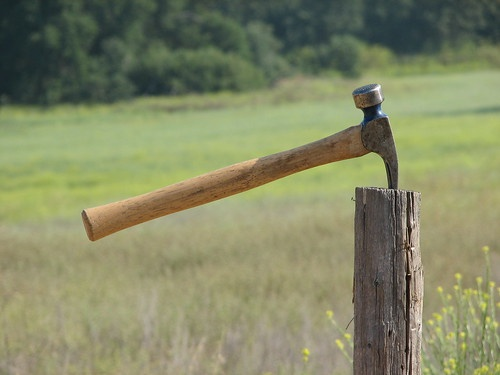hammer: (79, 81, 399, 242)
